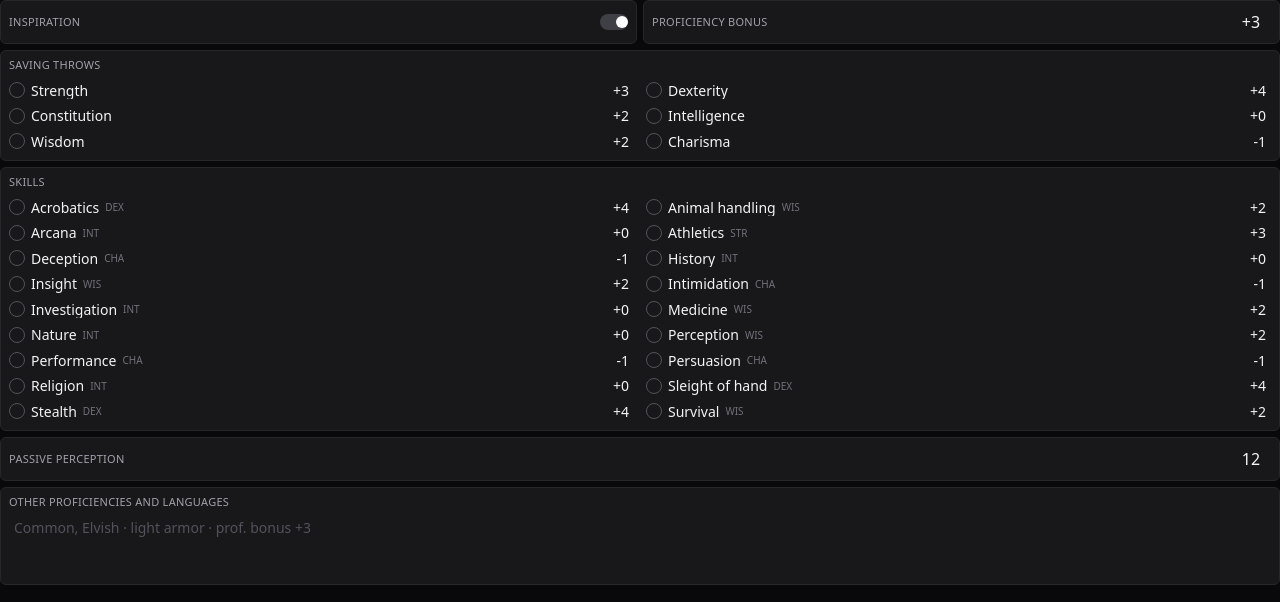
Scenario: SkillList › updates passive perception when perception proficiency changes
This screenshot has width=1280, height=602.
Expected: the field named "Passive perception" holds "12", [1231,444,1271,474]
Click the button named "Perception proficiency": (654, 335) [646,327,662,343]
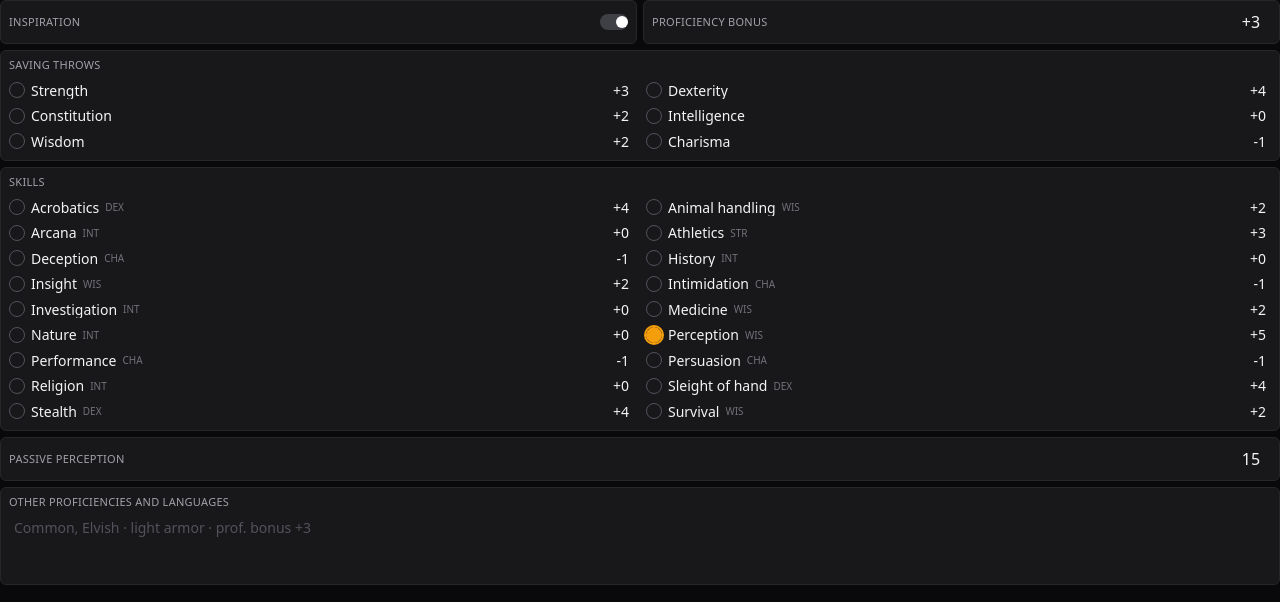
Result: the field named "Passive perception" holds "15" at [1231,444,1271,474]
